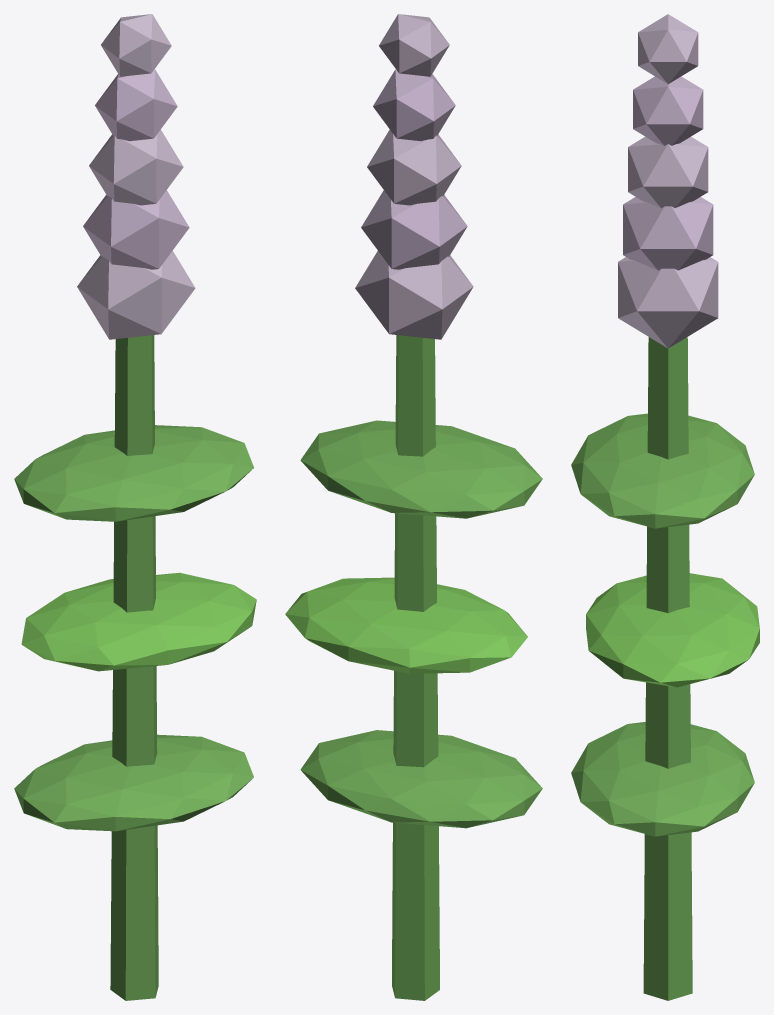
Rendered from cyanthillium-cinereum.glb.
The picture shows the model from 3 angles, left to right: view 1: azimuth 30°, elevation 25°; view 2: azimuth 150°, elevation 25°; view 3: azimuth 270°, elevation 25°; orthographic projection.
Visible parts, largest first — view 1: stem, leaf2, leaf0, leaf1, bud0, bud1, bud2, bud3, bud4; view 2: stem, leaf2, leaf1, leaf0, bud0, bud1, bud2, bud3, bud4; view 3: stem, leaf2, leaf1, leaf0, bud0, bud1, bud2, bud3, bud4.
Part boxes in pixels (x1,y1,x2,y2): stem: (110,335,158,1000); leaf2: (14,425,253,521); leaf0: (14,734,253,831); leaf1: (21,572,256,671); bud0: (77,250,195,339); bud1: (83,190,189,269); bud2: (89,129,183,205); bud3: (95,69,177,141); bud4: (101,14,171,76); stem: (392,335,439,1000); leaf2: (300,420,542,518); leaf1: (285,577,527,673); leaf0: (300,730,542,828); bud0: (355,251,473,339); bud1: (361,190,467,269); bud2: (367,129,461,205); bud3: (373,69,455,141); bud4: (379,14,449,76); stem: (643,337,692,1000); leaf2: (571,413,754,528); leaf1: (586,573,759,687); leaf0: (571,722,754,836); bud0: (618,257,718,348); bud1: (623,197,713,270); bud2: (628,136,708,208); bud3: (633,76,703,145); bud4: (638,14,698,84).
Size of the model in its own units: 0.1419 by 0.5789 by 0.1023.
